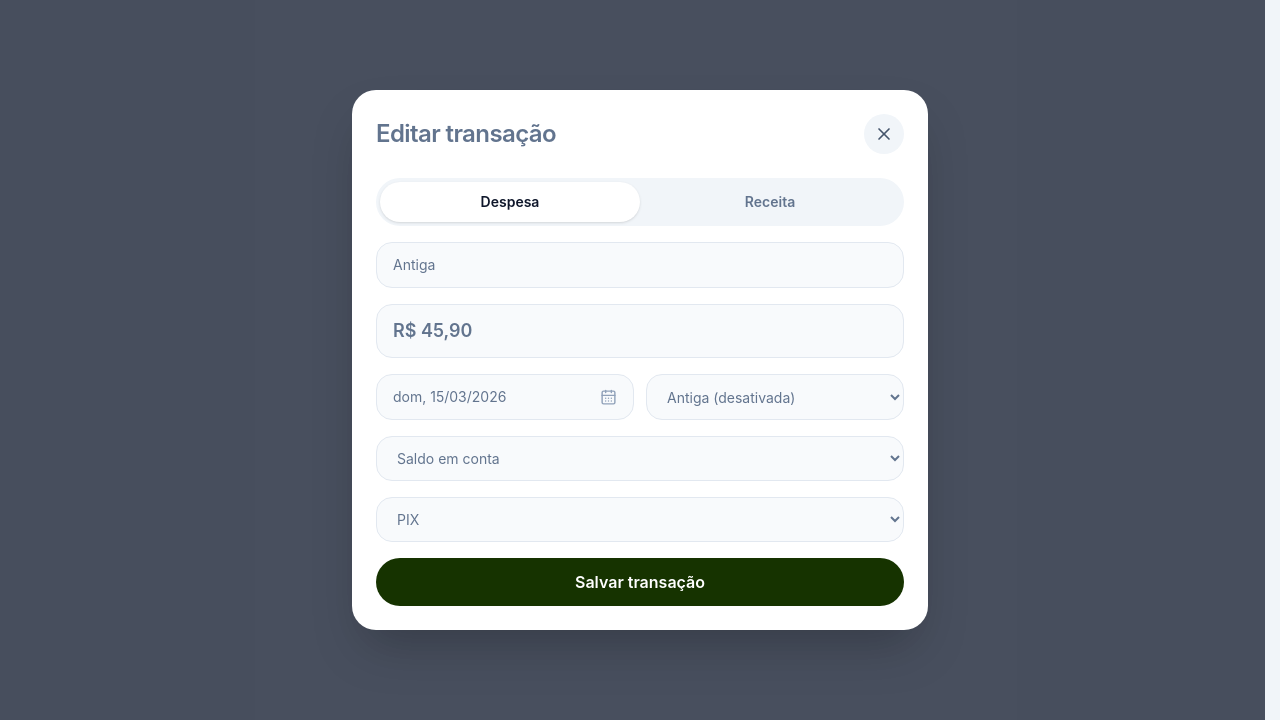
Scenario: TransactionModal › limpa a categoria ao trocar o tipo
Click the button "Receita" at (770, 202), box [640,182,900,222]
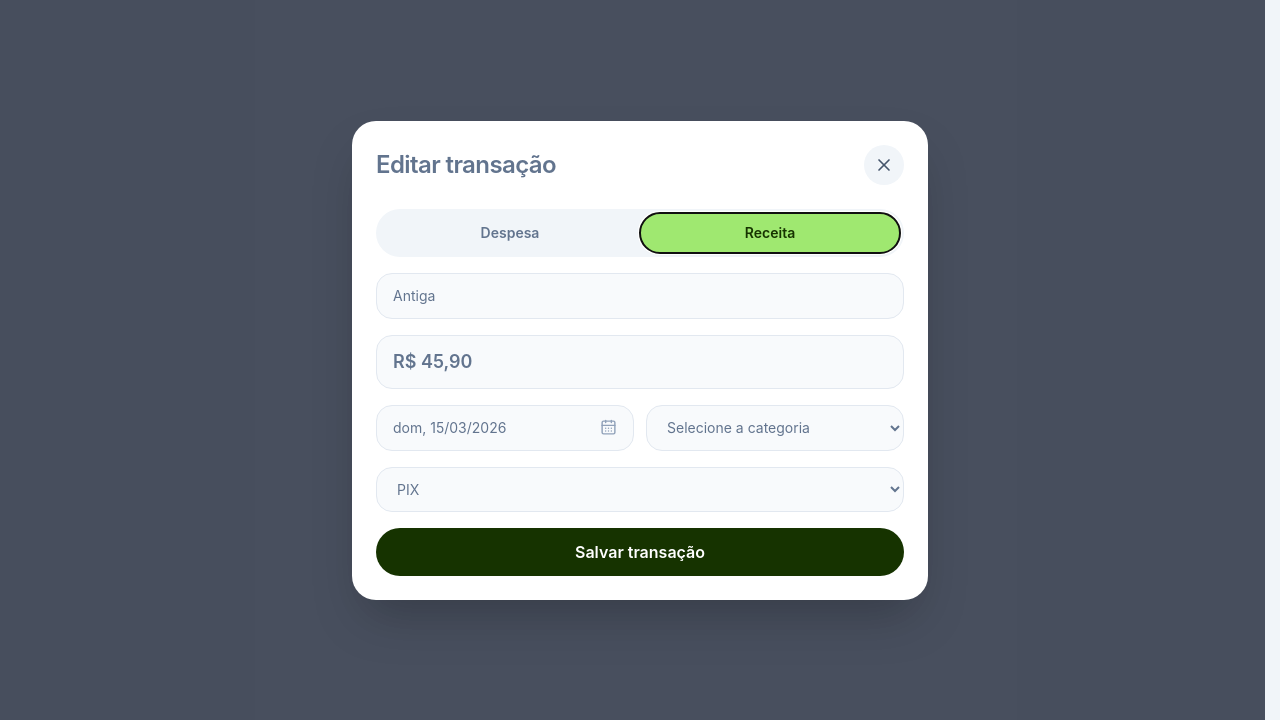
Expected: the dropdown named "Categoria" shows "Selecione a categoria", [646,404,904,450]
